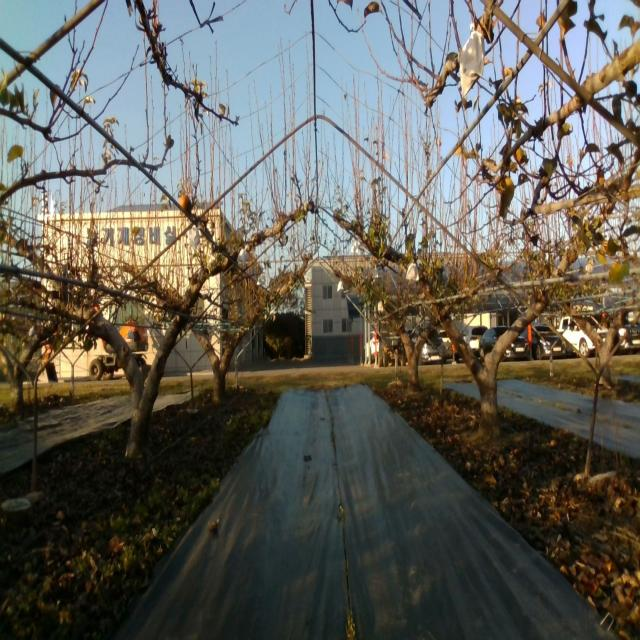pearbags: (460, 21, 485, 100), (188, 223, 201, 250), (406, 259, 420, 282), (237, 245, 249, 268)
